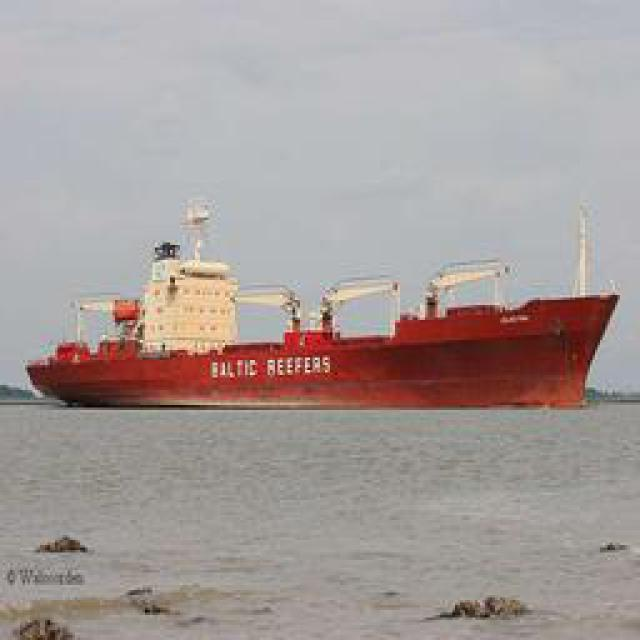Ship: (34, 214, 614, 409)
